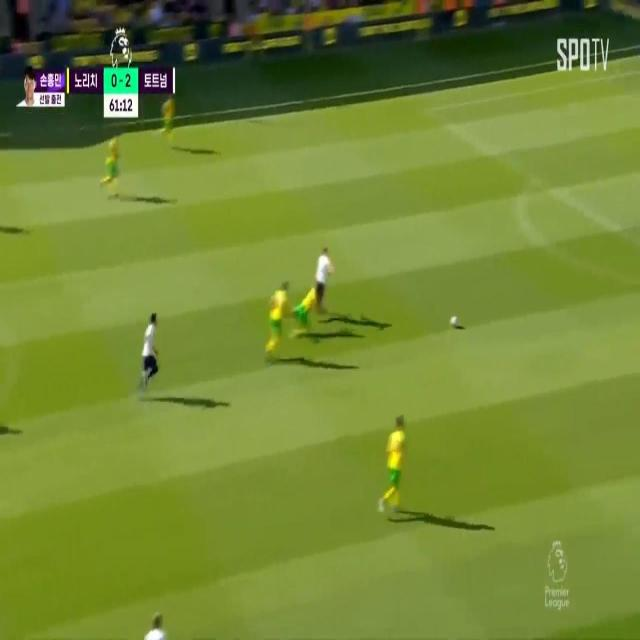ball: (450, 313, 460, 328)
player: (383, 410, 408, 522), (267, 269, 290, 362), (310, 241, 336, 315), (142, 307, 164, 385), (295, 285, 323, 327), (105, 134, 124, 190), (144, 609, 166, 640), (162, 97, 175, 139)
